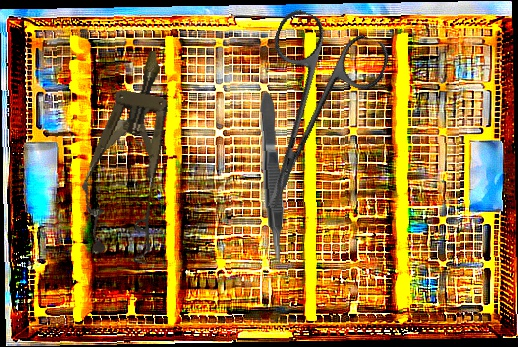Iris Scissors: (215, 5, 394, 227)
Speculum: (69, 42, 195, 266)
Tissue Forceps: (258, 92, 288, 266)
